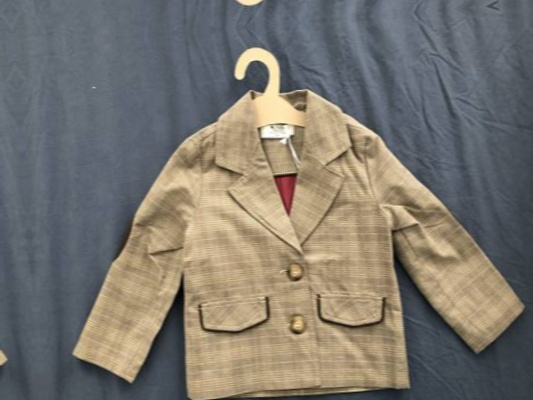Blazer: (53, 51, 503, 400), (0, 94, 9, 400)
